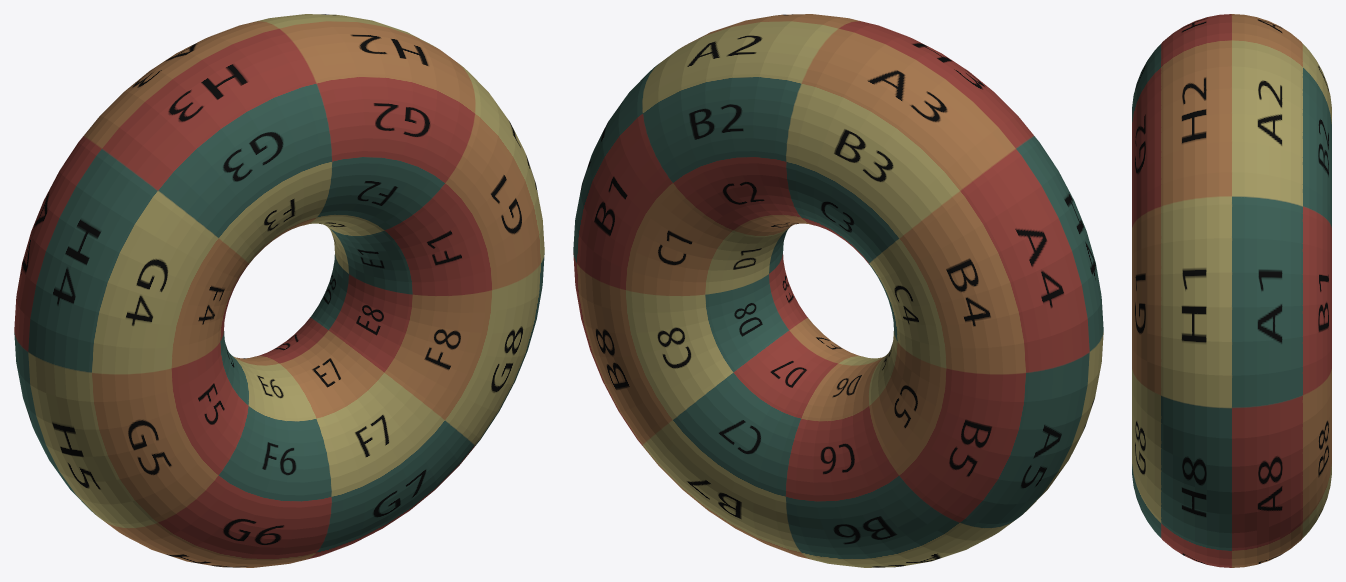
Rendered from texture_torus_R3_r18.glb.
The picture shows the model from 3 angles, left to right: view 1: azimuth 30°, elevation 25°; view 2: azimuth 150°, elevation 25°; view 3: azimuth 270°, elevation 25°; orthographic projection. The views are drawn at different scales.
Visible parts, largest first — view 1: world; view 2: world; view 3: world.
Part boxes in pixels (bbox=[...]): world: bbox=[14, 14, 544, 567]; world: bbox=[573, 14, 1103, 567]; world: bbox=[1132, 14, 1331, 567].
Size of the model in its own units: 18.8 by 18.76 by 6.79.
1 material, 1 textured.
